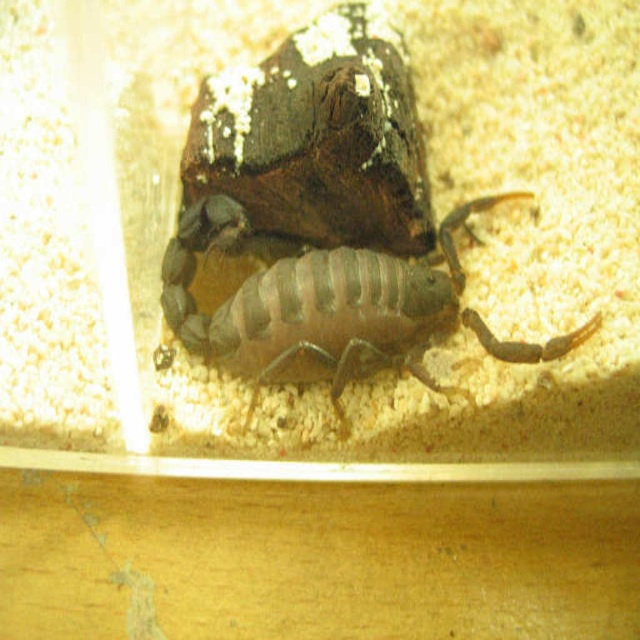Scorpion: (157, 187, 601, 441)
